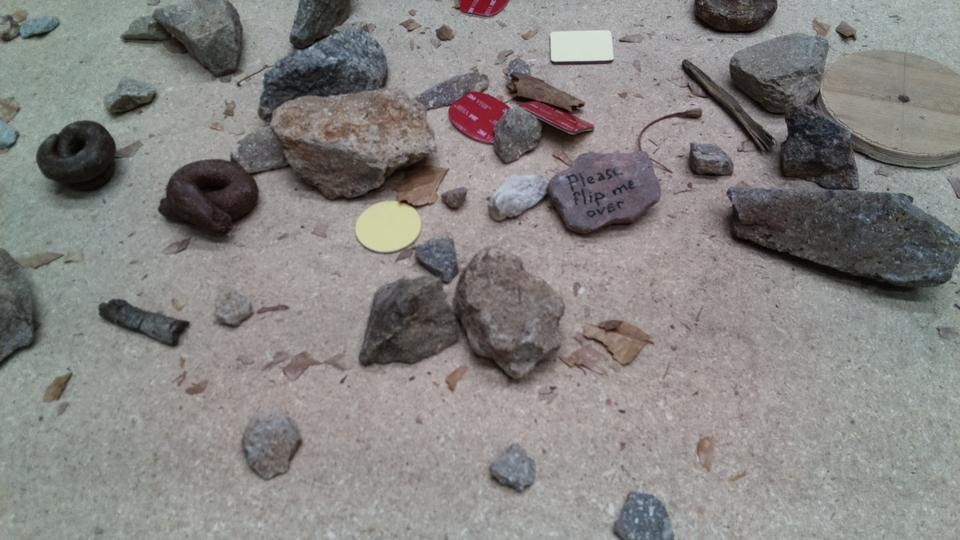poop: (155, 156, 257, 242), (35, 117, 117, 197), (693, 1, 777, 35)
